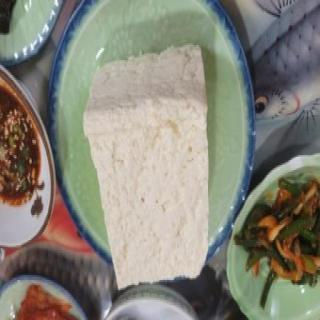Tahu: (83, 46, 209, 289)
